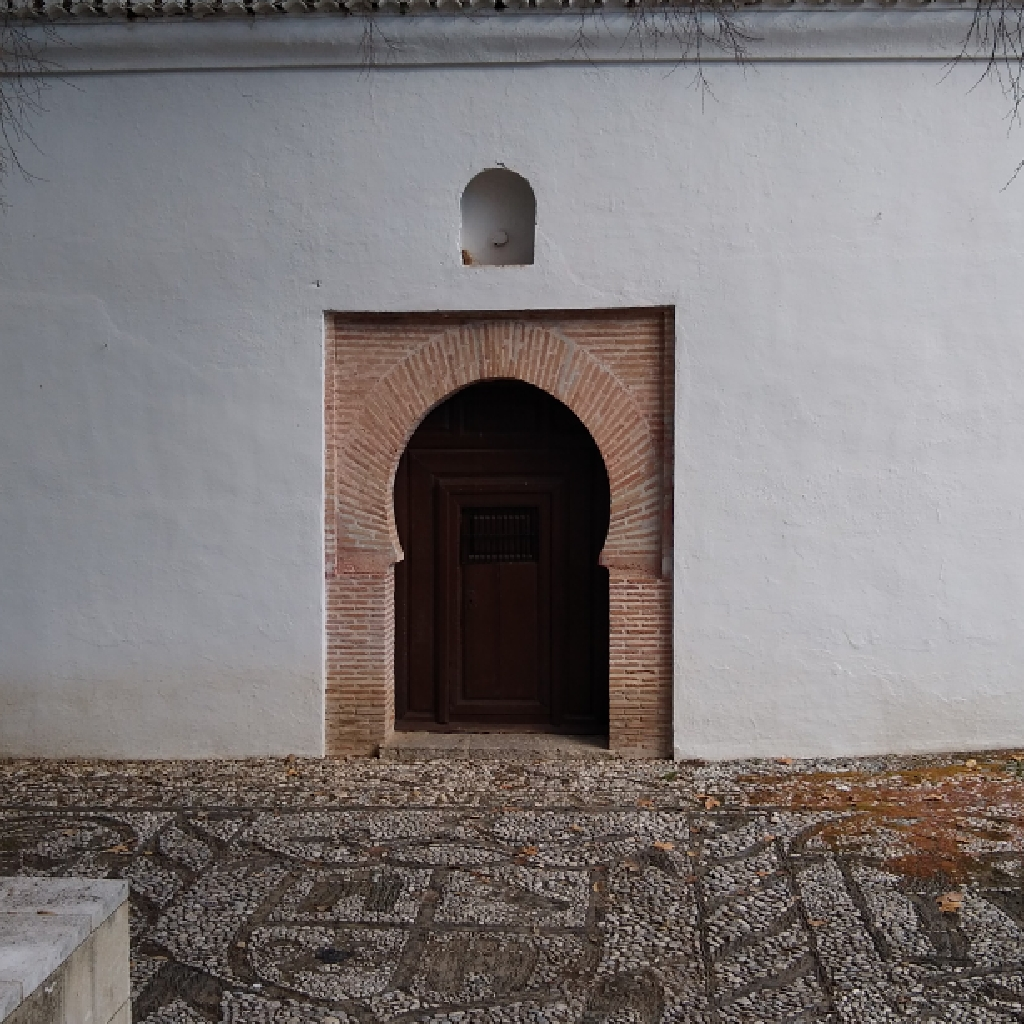arco-herradura: (377, 366, 626, 594)
